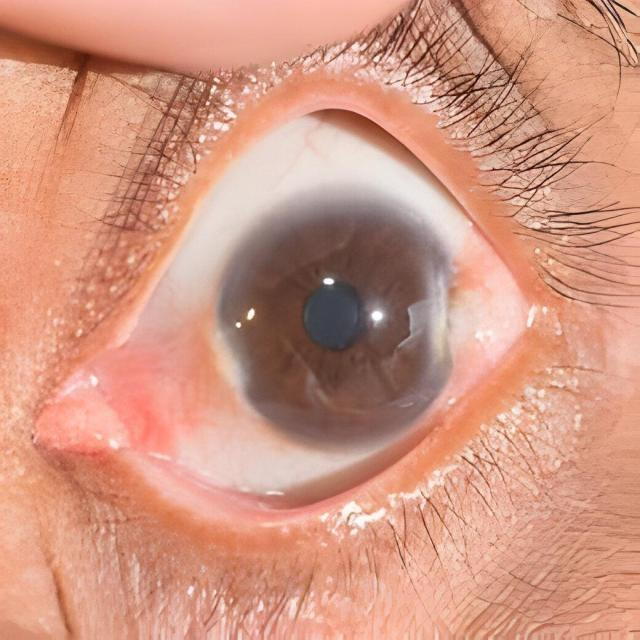Pterygium: (83, 306, 270, 487), (414, 228, 554, 366)
